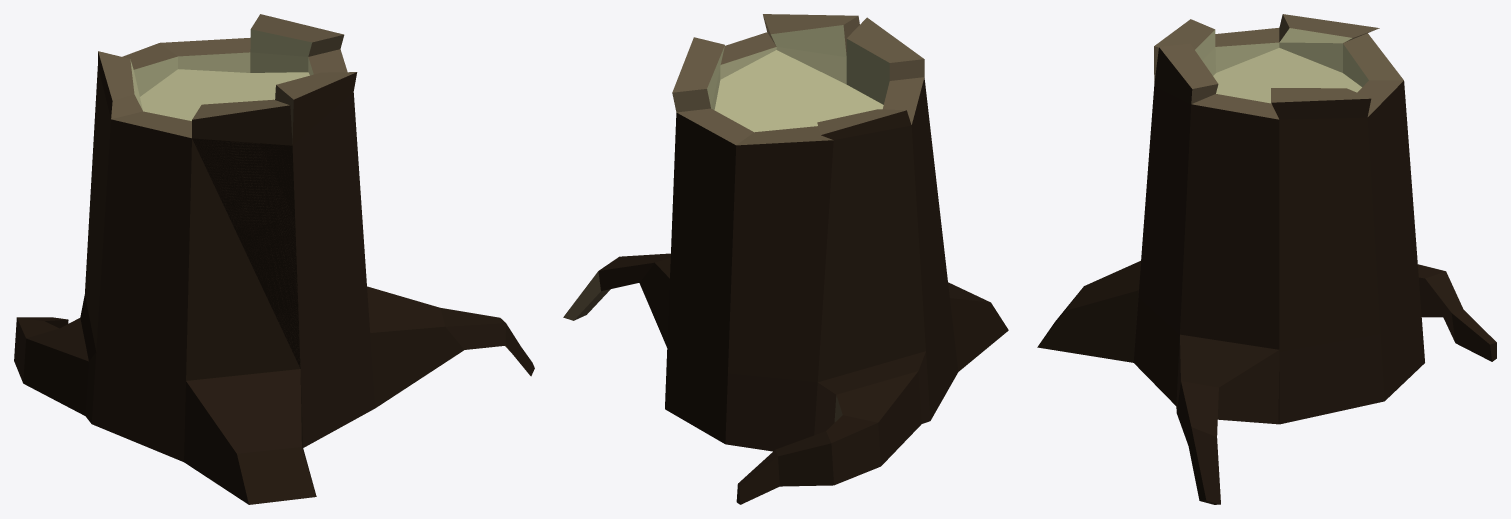
Rendered from Stump.fbx.
3 views of the same model, side by side, from view 1: azimuth 30°, elevation 25°; view 2: azimuth 150°, elevation 25°; view 3: azimuth 270°, elevation 25° (orthographic). The views are drawn at different scales.
Visible parts, largest first — view 1: Stump; view 2: Stump; view 3: Stump.
Boxes of the visible parts, x1,y1,x2,y2 form: Stump: (14,14,534,504); Stump: (563,14,1008,504); Stump: (1037,14,1496,504).
Bounding box in the file's own units: 72.99 × 60.44 × 73.75.
